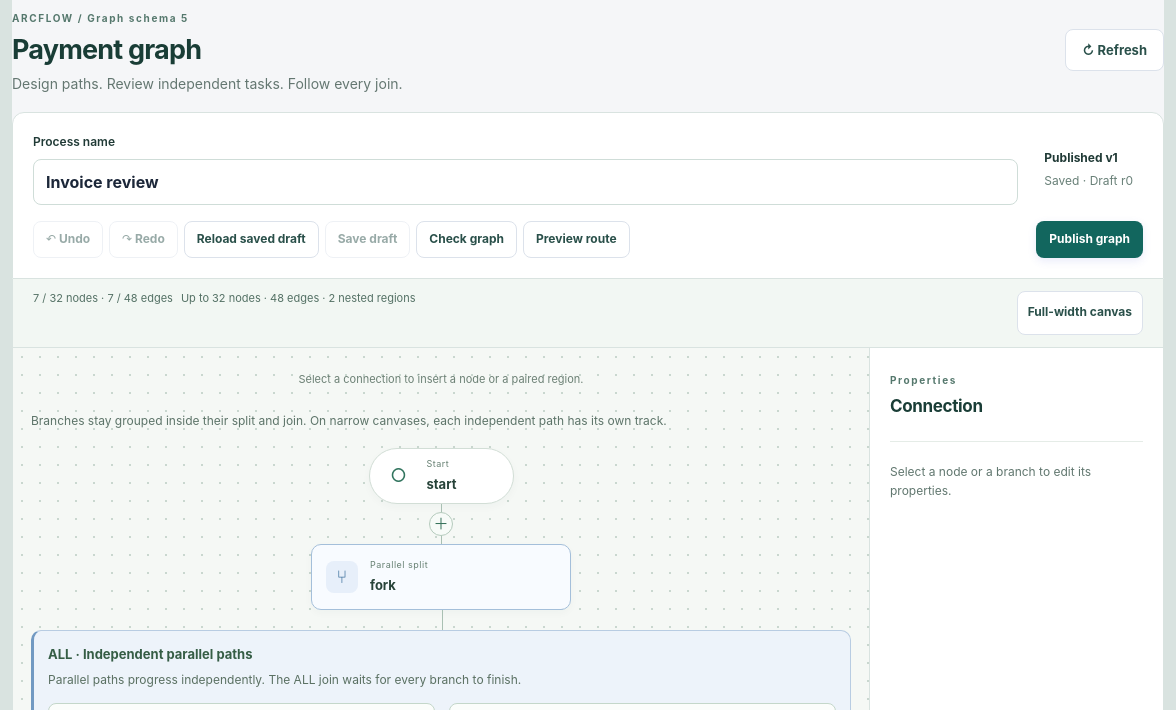
Test case: graph designer DOM › preserves local edits after CAS conflict and requires explicit reload
The width and height of the screenshot is (1176, 710).
Replace the text in the field with test id "graph-process-name" with "Keep my edits" at x=526, y=182, box [33,159,1018,205]
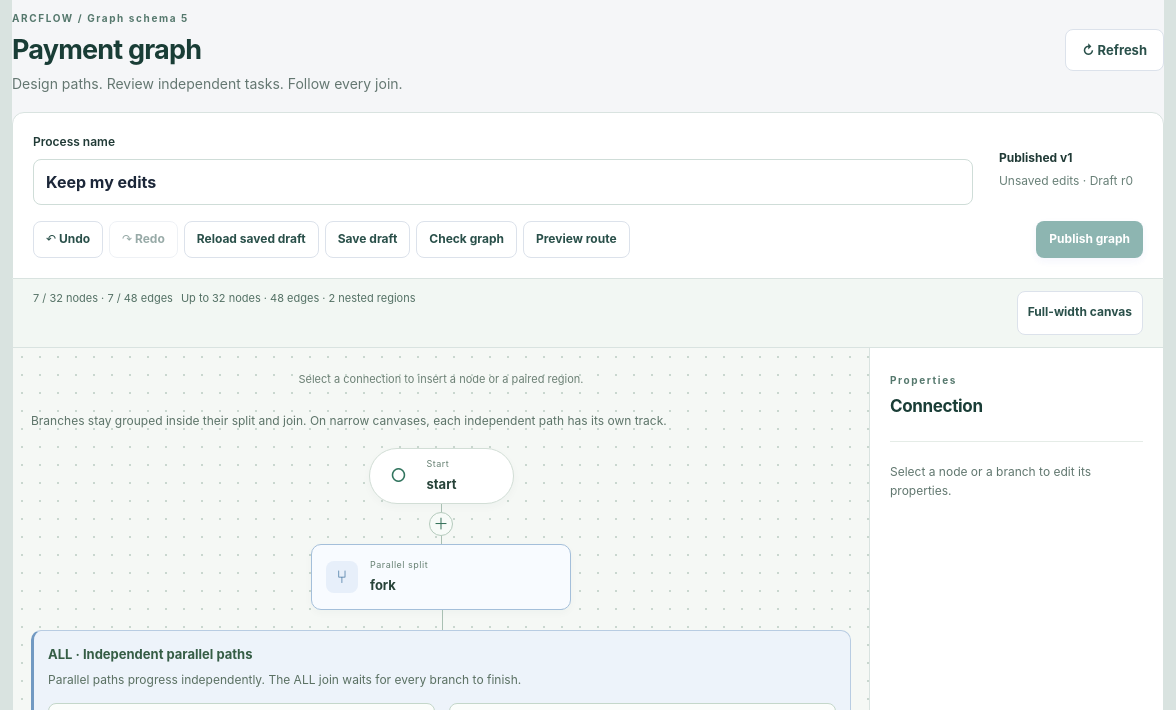
Click the button with test id "graph-save" at x=367, y=239, box [325,221,410,258]
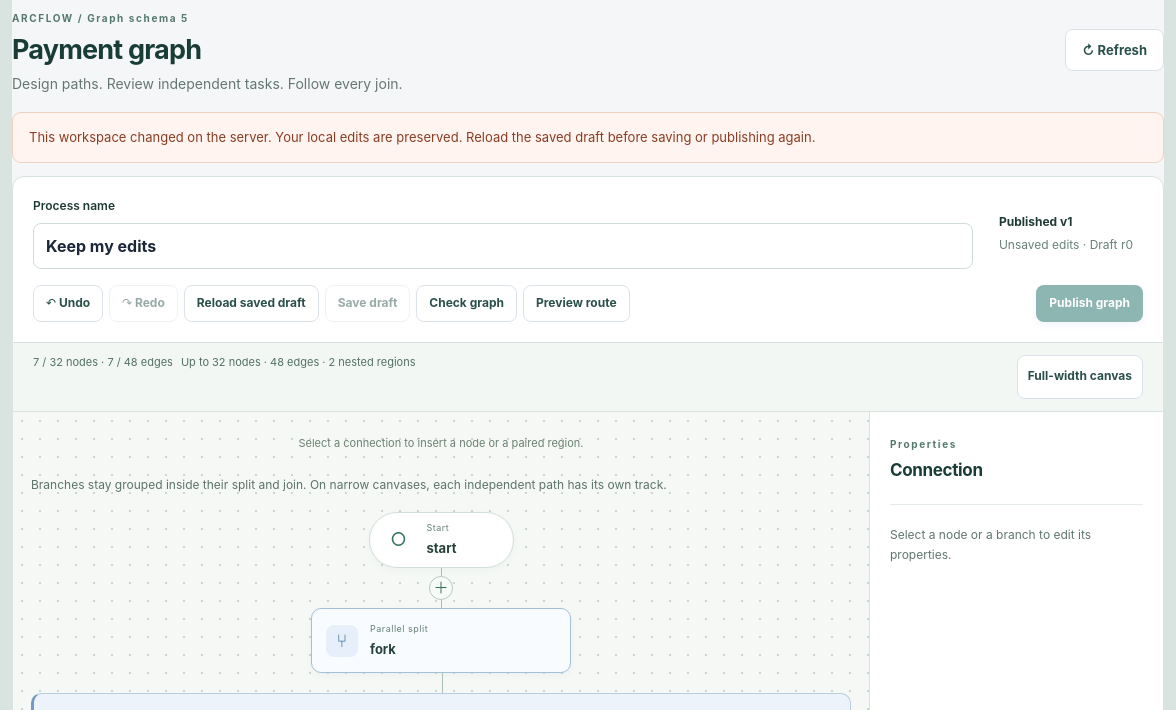
Check: the button with test id "graph-save" is disabled, box [325,285,410,322]
Check: the message shows "preserved", box [29,129,816,145]
